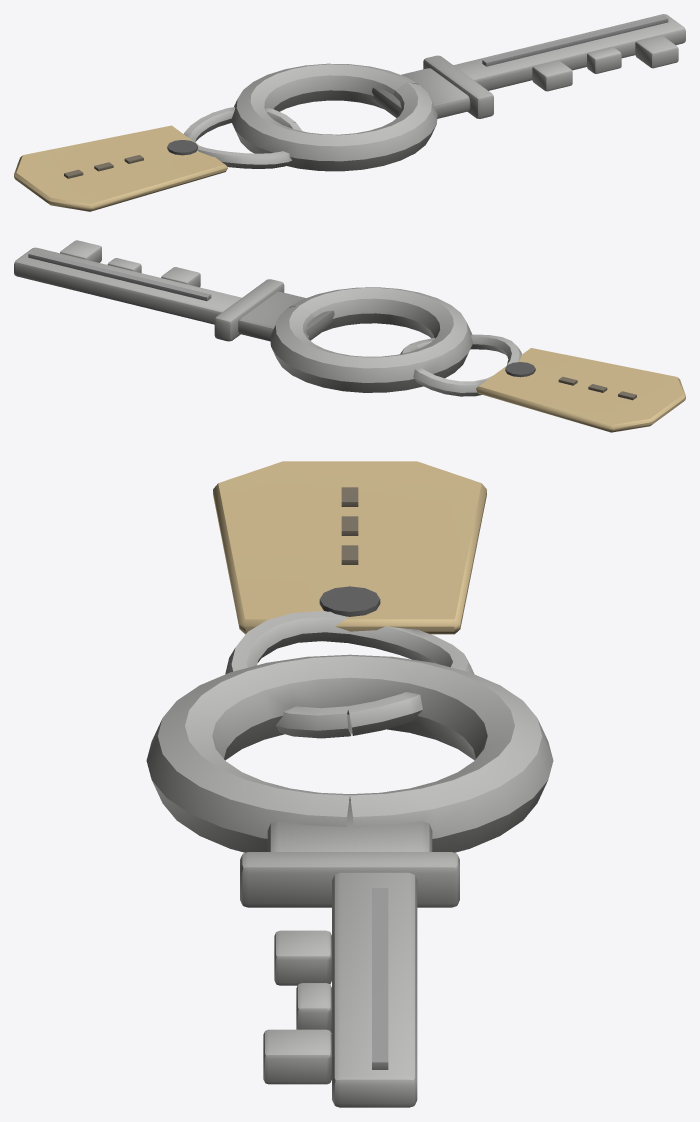
File: door-key.glb
3 views of the same model, one above another, from view 1: azimuth 30°, elevation 25°; view 2: azimuth 150°, elevation 25°; view 3: azimuth 270°, elevation 25° (orthographic). The views are drawn at different scales.
Parts seen in each view (by area): view 1: Body_lod0; view 2: Body_lod0; view 3: Body_lod0.
Part boxes in pixels (<box>): Body_lod0: <box>14,14,685,211</box>; Body_lod0: <box>14,240,685,432</box>; Body_lod0: <box>146,461,553,1107</box>.
Size of what is drawn, in the model's own units: 0.1075 by 0.0056 by 0.0296.
